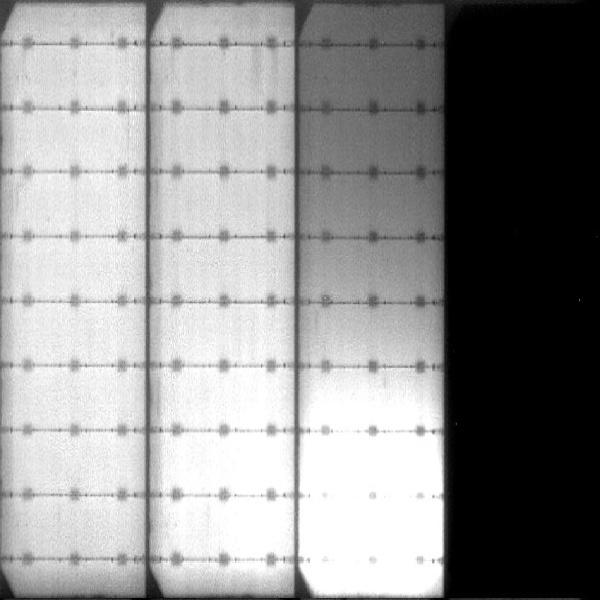hot_spot: (302, 502, 441, 555), (301, 442, 444, 489), (180, 502, 287, 552), (178, 440, 287, 482), (313, 567, 436, 593)
no_electricity: (447, 2, 600, 596)
